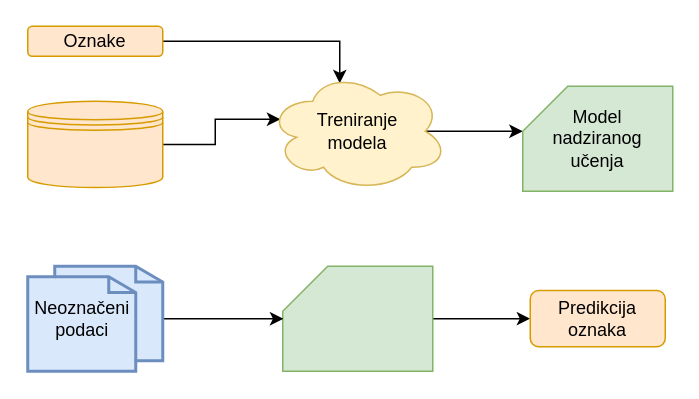
Image size: 699x399. Some labels were removed from this diagram. The centre of each missing label's shape, as x and y in pixels:
"Model nadziranog učenaj" belongs at (x=357, y=318).
"Označeni podaci" belongs at (x=94, y=144).
